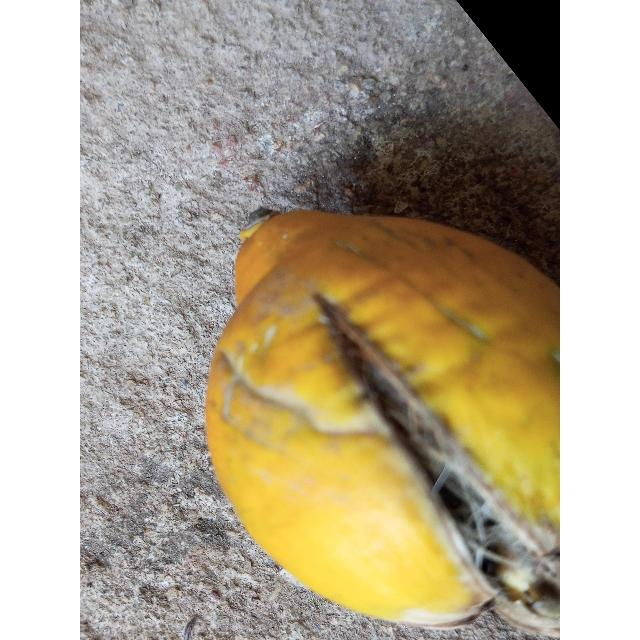damaged: (204, 211, 560, 640)
